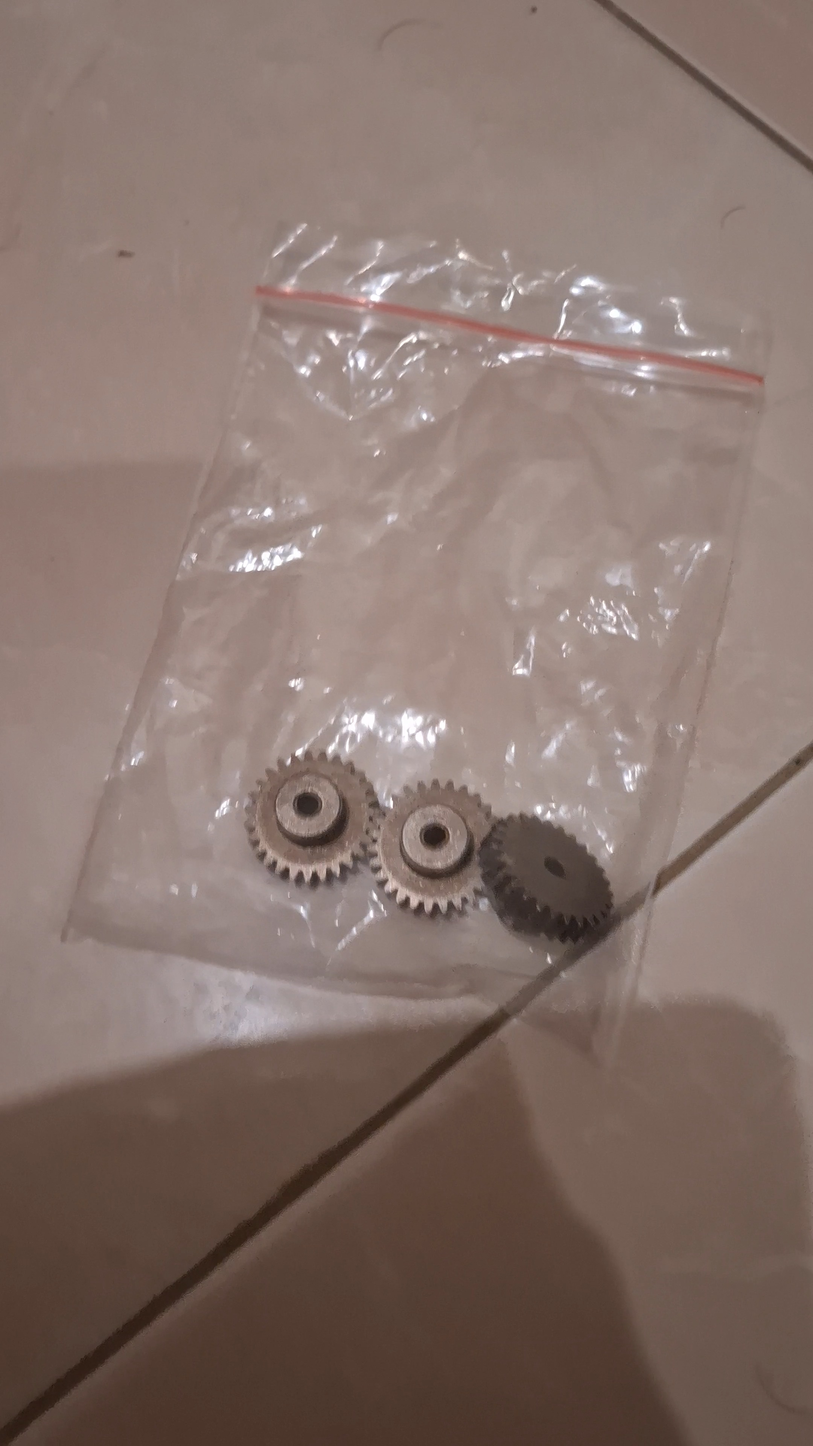spur gear: (241, 749, 382, 888), (475, 808, 615, 944), (370, 778, 499, 920)
